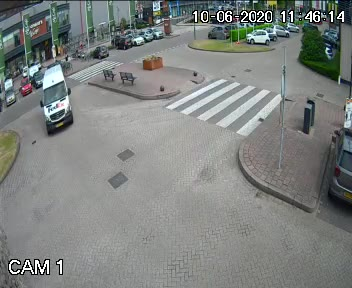car: (32, 59, 80, 135)
